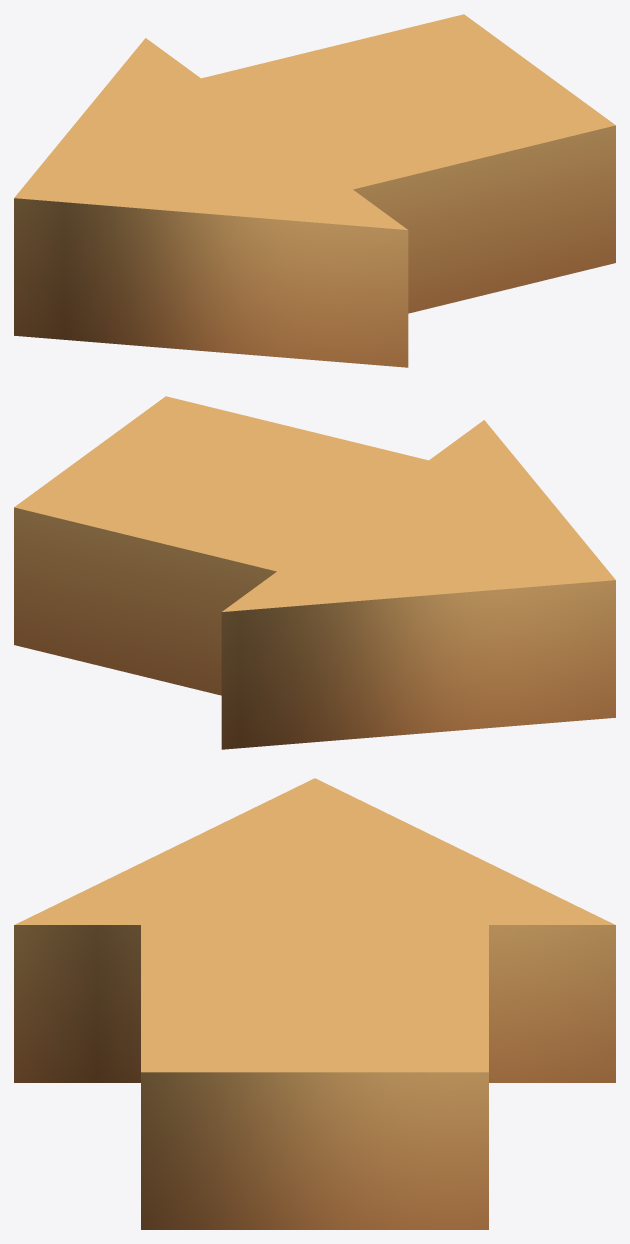
Rendered from arrow.glb.
3 renders of one model, top to bottom at view 1: azimuth 30°, elevation 25°; view 2: azimuth 150°, elevation 25°; view 3: azimuth 270°, elevation 25°, orthographic. The views are drawn at different scales.
Visible parts, largest first — view 1: arrow; view 2: arrow; view 3: arrow.
Boxes of the visible parts, box(x1,y1,x2,y2) form: arrow: box(14, 14, 615, 367); arrow: box(14, 396, 615, 749); arrow: box(14, 778, 615, 1229).
Bounding box in the file's own units: 0.8 × 0.2 × 0.692.
1 material, 1 textured.
